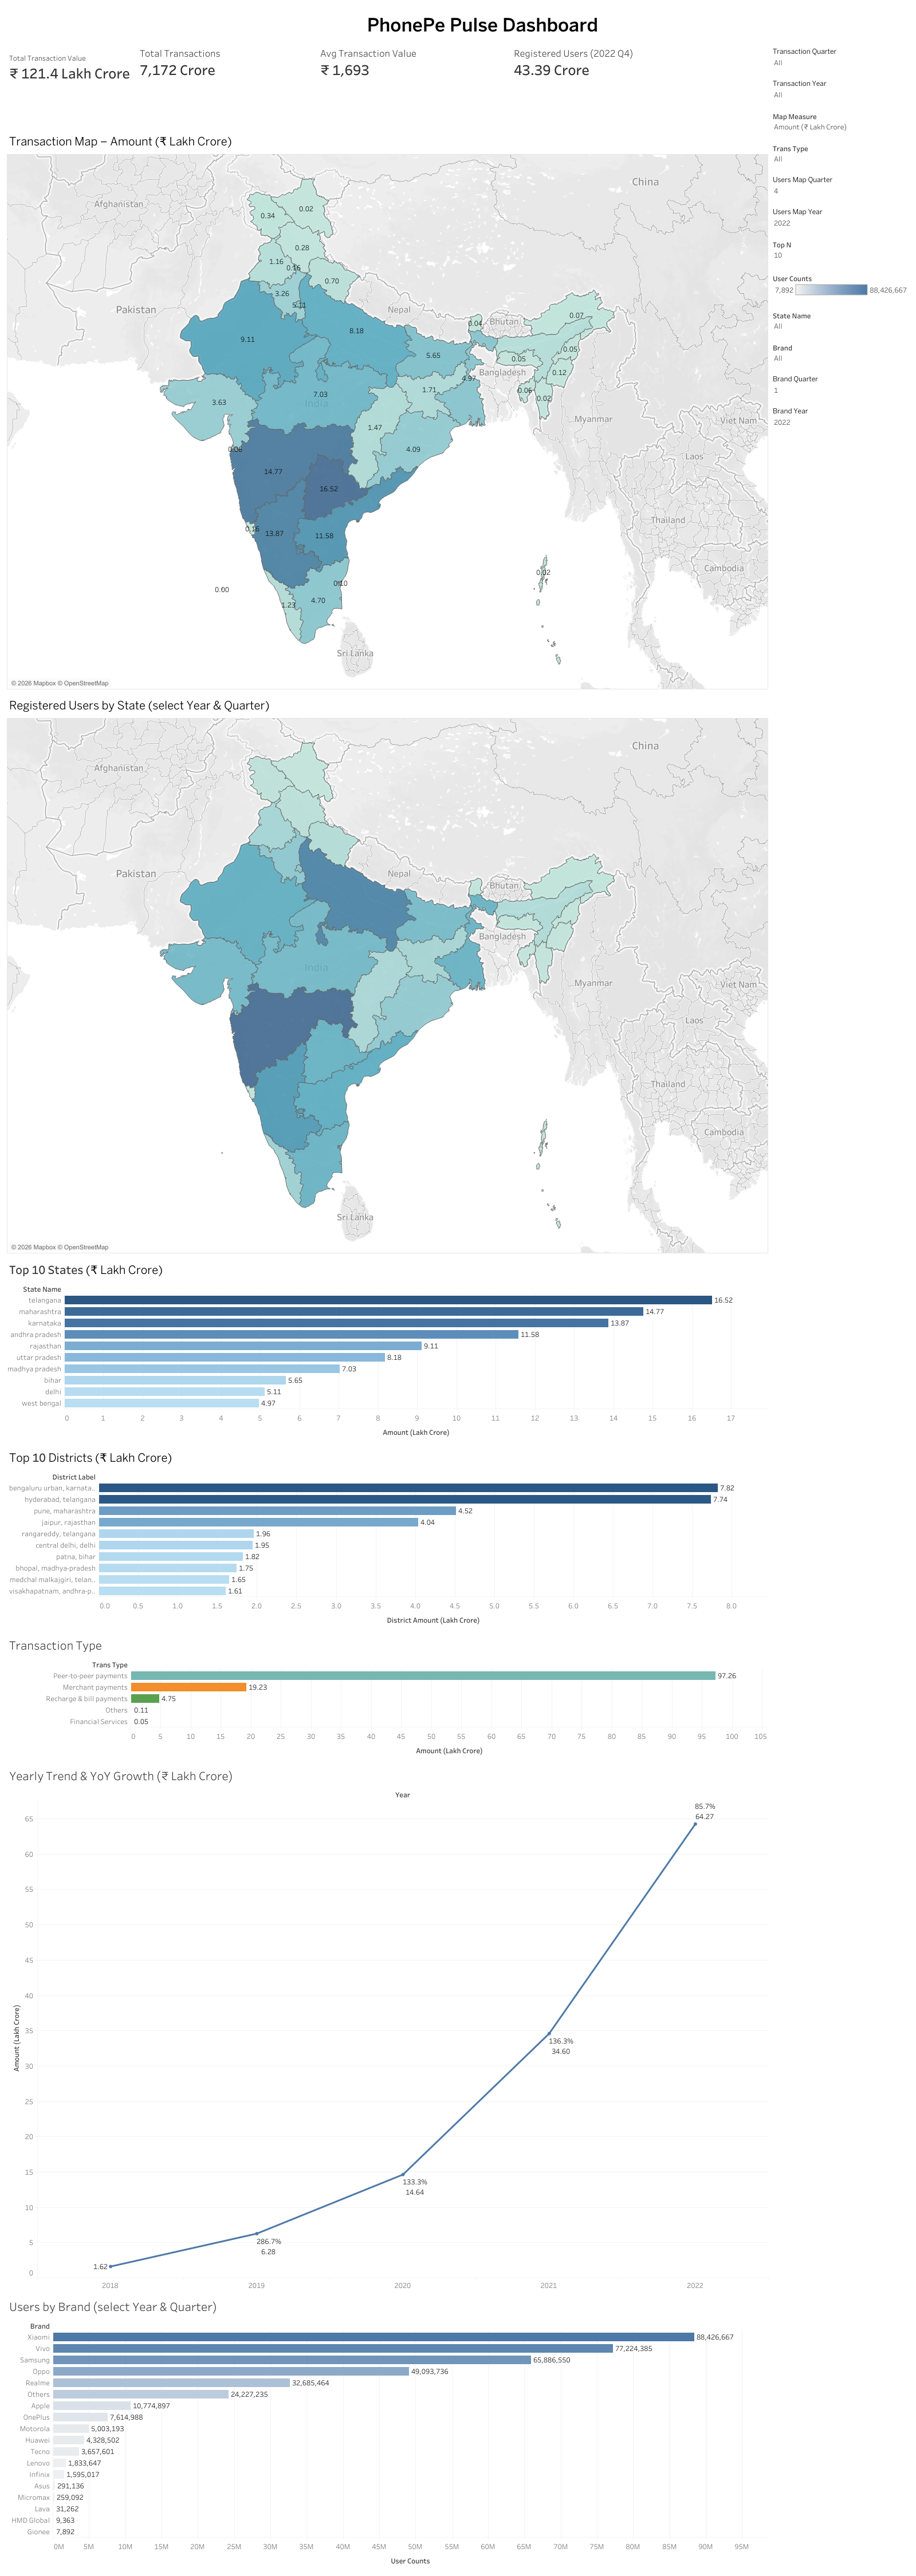

The dashboard page shown, as its layout file describes it:
{"tool":"tableau","page":{"name":"PhonePe Pulse Dashboard","canvas":[1600,4500],"ordinal":0},"visuals":[{"type":"title","box":[8,8,1584,69]},{"type":"worksheet","title":"KPI - Total Amount","mark":"Automatic","box":[8,77,288,146]},{"type":"worksheet","title":"KPI - Total Transactions","mark":"Automatic","box":[296,77,315,146]},{"type":"worksheet","title":"KPI - Avg Transaction","mark":"Automatic","box":[611,77,338,146]},{"type":"worksheet","title":"KPI - Users","mark":"Automatic","box":[949,77,338,146]},{"type":"filter","title":"KPI - Avg Transaction","param":"[federated.0322r6v16huf3016etff91mfdj2f].[none:quarter:ok]","box":[1345,77,247,61]},{"type":"filter","title":"KPI - Avg Transaction","param":"[federated.0322r6v16huf3016etff91mfdj2f].[none:year:ok]","box":[1345,138.1,247,61]},{"type":"parameter","param":"[Parameters].[Parameter 1826904519315469]","box":[1345,199.1,247,56]},{"type":"worksheet","title":"Transaction Map","mark":"Multipolygon","box":[8,223,1337,966]},{"type":"filter","title":"KPI - Avg Transaction","param":"[federated.0322r6v16huf3016etff91mfdj2f].[none:trans_type:nk]","box":[1345,255.1,247,61]},{"type":"filter","title":"Users Map","param":"[federated.0322r6v16huf3016etff91mfdj2f].[none:quarter (map_user.csv):ok]","box":[1345,316.1,247,61]},{"type":"filter","title":"Users Map","param":"[federated.0322r6v16huf3016etff91mfdj2f].[none:year (map_user.csv):ok]","box":[1345,377.1,247,61]},{"type":"parameter","param":"[Parameters].[Parameter 1826904510935050]","box":[1345,438.2,247,56]},{"type":"legend","title":"Users by Brand (select Year & Quarter)","param":"[federated.0322r6v16huf3016etff91mfdj2f].[sum:user_counts:qk]","box":[1345,494.2,247,73]},{"type":"filter","title":"Transaction Type","param":"[federated.0322r6v16huf3016etff91mfdj2f].[none:Calculation_2545708097318912:nk]","box":[1345,567.2,247,61]},{"type":"filter","title":"Users by Brand (select Year & Quarter)","param":"[federated.0322r6v16huf3016etff91mfdj2f].[none:brand:nk]","box":[1345,628.2,247,61]},{"type":"filter","title":"Users by Brand (select Year & Quarter)","param":"[federated.0322r6v16huf3016etff91mfdj2f].[none:quarter:ok]","box":[1345,689.2,247,61]},{"type":"filter","title":"Users by Brand (select Year & Quarter)","param":"[federated.0322r6v16huf3016etff91mfdj2f].[none:year:ok]","box":[1345,750.2,247,61]},{"type":"worksheet","title":"Users Map","mark":"Multipolygon","box":[8,1189,1337,966]},{"type":"worksheet","title":"Top  N States","mark":"Automatic","rows":["Calculation_2545708097318912"],"cols":["Calculation_2545708122628097"],"box":[8,2155,1337,341]},{"type":"worksheet","title":"Top N Districts","mark":"Automatic","rows":["Calculation_1826904531111951"],"cols":["Calculation_1826904531382288"],"box":[8,2496,1337,341]},{"type":"worksheet","title":"Transaction Type","mark":"Automatic","rows":["trans_type"],"cols":["Calculation_2545708122628097"],"box":[8,2837,1337,241]},{"type":"worksheet","title":"Yearly Trend & YoY Growth (₹ Lakh Crore)","mark":"Line","rows":["Calculation_2545708122628097"],"cols":["year"],"box":[8,3078,1337,913]},{"type":"worksheet","title":"Users by Brand (select Year & Quarter)","mark":"Automatic","rows":["brand"],"cols":["user_counts"],"box":[8,3991,1337,501]}]}

Visuals, with their boxes in screenshot pixels (x1, y1, x2, y2), scaled from the page's 1600x4500 canvas onto the 916x2576 screenshot:
title: detection(5, 5, 911, 44)
"KPI - Total Amount" worksheet: detection(5, 44, 170, 128)
"KPI - Total Transactions" worksheet: detection(170, 44, 350, 128)
"KPI - Avg Transaction" worksheet: detection(350, 44, 543, 128)
"KPI - Users" worksheet: detection(543, 44, 737, 128)
"KPI - Avg Transaction" filter: detection(770, 44, 911, 79)
"KPI - Avg Transaction" filter: detection(770, 79, 911, 114)
parameter: detection(770, 114, 911, 146)
"Transaction Map" worksheet (Multipolygon marks): detection(5, 128, 770, 681)
"KPI - Avg Transaction" filter: detection(770, 146, 911, 181)
"Users Map" filter: detection(770, 181, 911, 216)
"Users Map" filter: detection(770, 216, 911, 251)
parameter: detection(770, 251, 911, 283)
"Users by Brand (select Year & Quarter)" legend: detection(770, 283, 911, 325)
"Transaction Type" filter: detection(770, 325, 911, 360)
"Users by Brand (select Year & Quarter)" filter: detection(770, 360, 911, 395)
"Users by Brand (select Year & Quarter)" filter: detection(770, 395, 911, 429)
"Users by Brand (select Year & Quarter)" filter: detection(770, 429, 911, 464)
"Users Map" worksheet (Multipolygon marks): detection(5, 681, 770, 1234)
"Top  N States" worksheet: detection(5, 1234, 770, 1429)
"Top N Districts" worksheet: detection(5, 1429, 770, 1624)
"Transaction Type" worksheet: detection(5, 1624, 770, 1762)
"Yearly Trend & YoY Growth (₹ Lakh Crore)" worksheet (Line marks): detection(5, 1762, 770, 2285)
"Users by Brand (select Year & Quarter)" worksheet: detection(5, 2285, 770, 2571)
